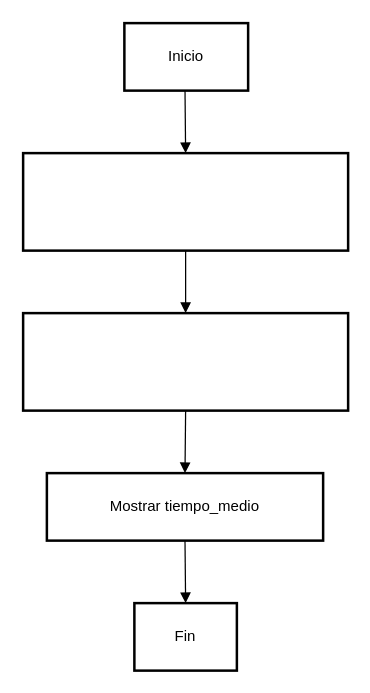
This 370x693 diagram has some shape labels left out. The box of each missing label's shape, as (x1, y1, x2, y2) in pixels:
Asignar tiempo_total = 2*60 + 25: (21, 151, 349, 251)
Calcular tiempo_medio = tiempo_total / 42.195: (21, 311, 349, 411)
